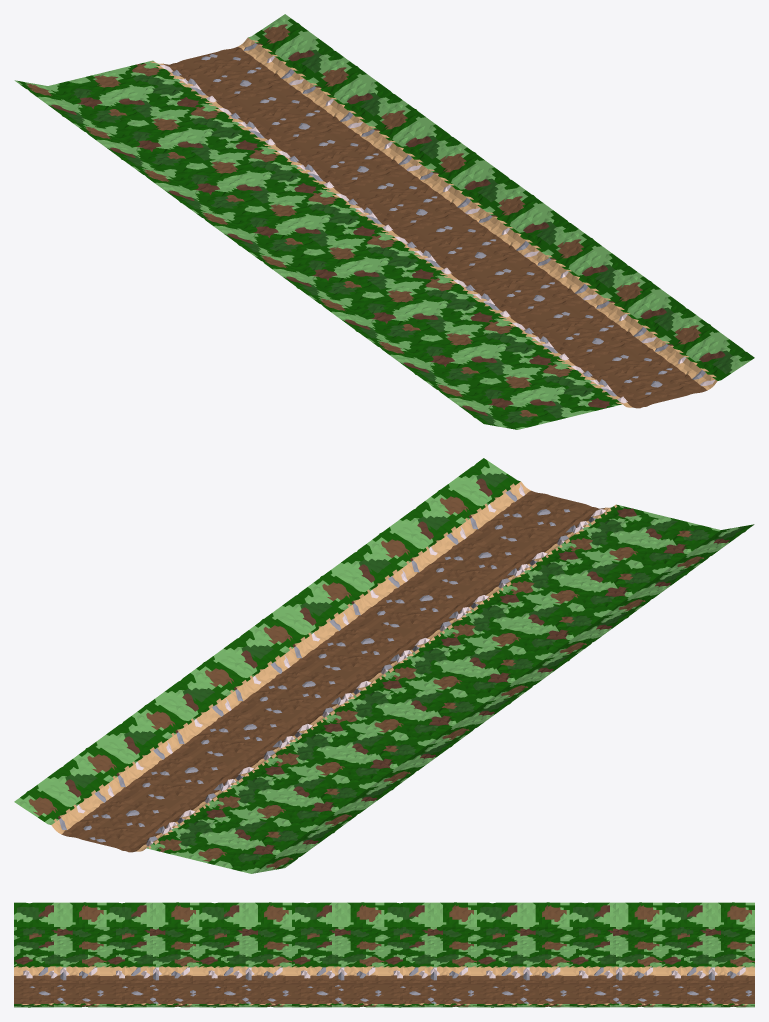
File: MapPack1.fbx
3 renders of one model, top to bottom at view 1: azimuth 30°, elevation 25°; view 2: azimuth 150°, elevation 25°; view 3: azimuth 270°, elevation 25°, orthographic. The views are drawn at different scales.
Visible parts, largest first — view 1: Hill_1, River_3, Ground_1, River_2, Ground_2, Ground_3, River_1, Hill_2; view 2: Hill_1, River_3, Ground_1, Ground_2, River_2, Ground_3, River_1, Hill_2; view 3: Hill_2, River_1, Ground_2, Ground_3, Ground_1, River_2, River_3, Hill_1.
Boxes of the visible parts, x1,y1,x2,y2 form: Hill_1: (251,14,754,379); River_3: (217,36,720,395); Ground_1: (82,69,584,421); River_2: (184,52,686,403); Ground_2: (116,61,618,413); Ground_3: (48,78,550,429); River_1: (150,60,652,408); Hill_2: (14,80,516,429); Hill_1: (14,458,517,823); River_3: (48,480,551,839); Ground_1: (184,513,686,865); Ground_2: (150,505,652,857); River_2: (82,496,584,847); Ground_3: (218,522,720,873); River_1: (116,504,618,852); Hill_2: (252,524,754,873); Hill_2: (14,902,754,927); River_1: (14,965,754,985); Ground_2: (14,952,754,966); Ground_3: (14,926,754,940); Ground_1: (14,939,754,953); River_2: (14,984,754,998); River_3: (14,997,754,1005); Hill_1: (14,1004,754,1007).
Bounding box in the file's own units: 80 × 6.53 × 240.
